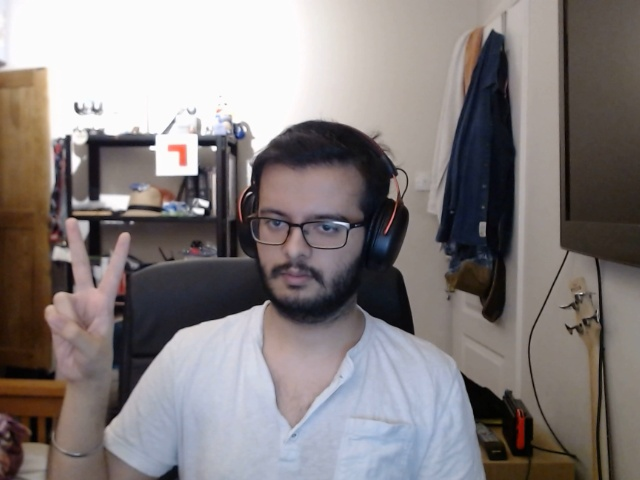Peace: (24, 214, 147, 391)
